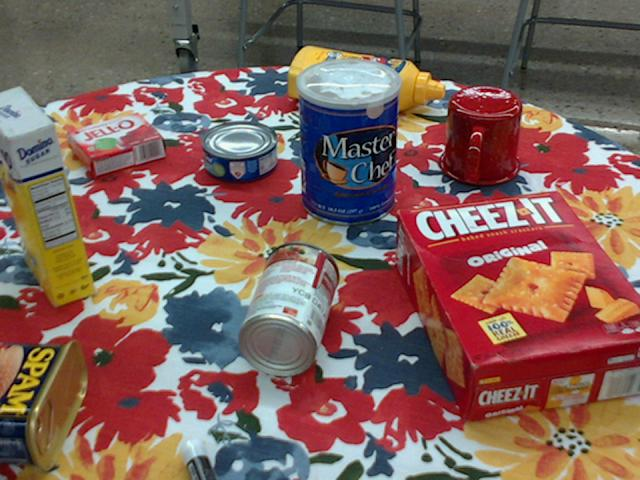cracker_box: (394, 191, 639, 423)
gelatin_box: (67, 115, 164, 179)
large_marker: (180, 438, 216, 479)
master_chef_can: (297, 58, 401, 226)
mug: (437, 87, 522, 186)
mustard_bottle: (286, 46, 443, 110)
potted_meat_can: (0, 339, 87, 468)
sugar_box: (0, 85, 94, 306)
tomato_soup_can: (238, 242, 338, 377)
tuna_fish_can: (199, 121, 276, 182)
